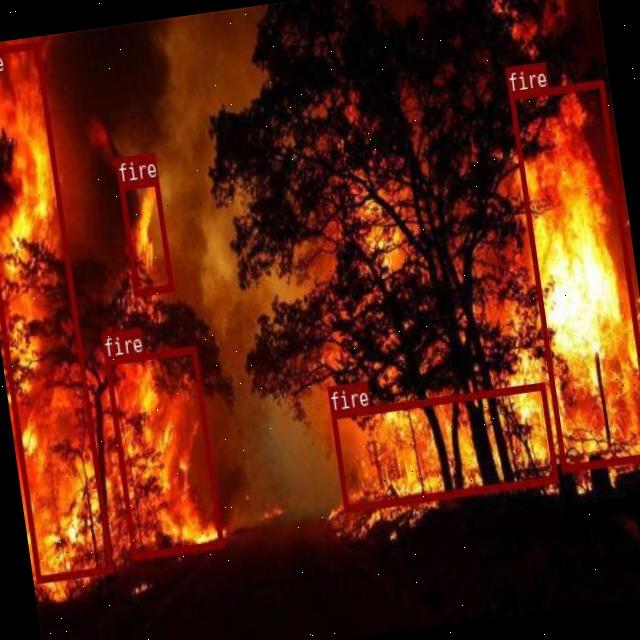fire: (0, 40, 113, 581), (508, 80, 640, 472), (330, 382, 556, 511), (105, 346, 222, 560), (119, 178, 173, 296)
